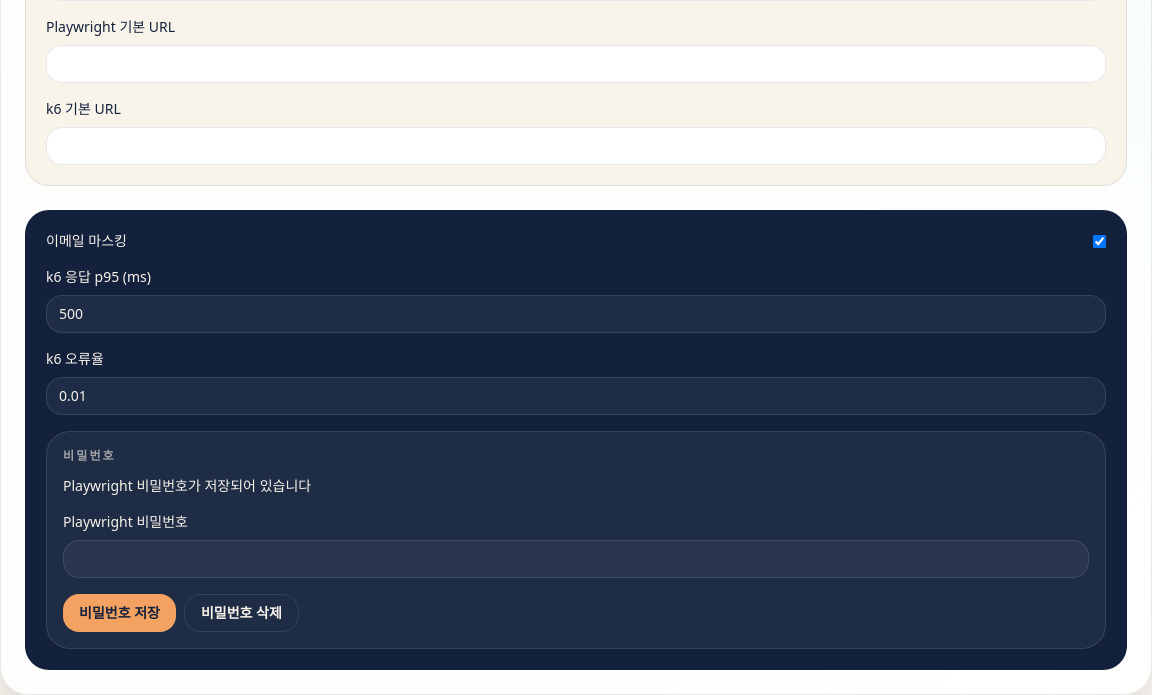
Test: SettingsPage › keeps the credential status unchanged when clearing the Playwright password fails
(page scrolled)
Expected: the text "Playwright 비밀번호가 저장되어 있습니다" is shown, [63,476,311,495]
What coordinates should you click on to do the following:
click the button "비밀번호 삭제"
I would click on:
 (241, 613)
Its box is [184,594,299,632].
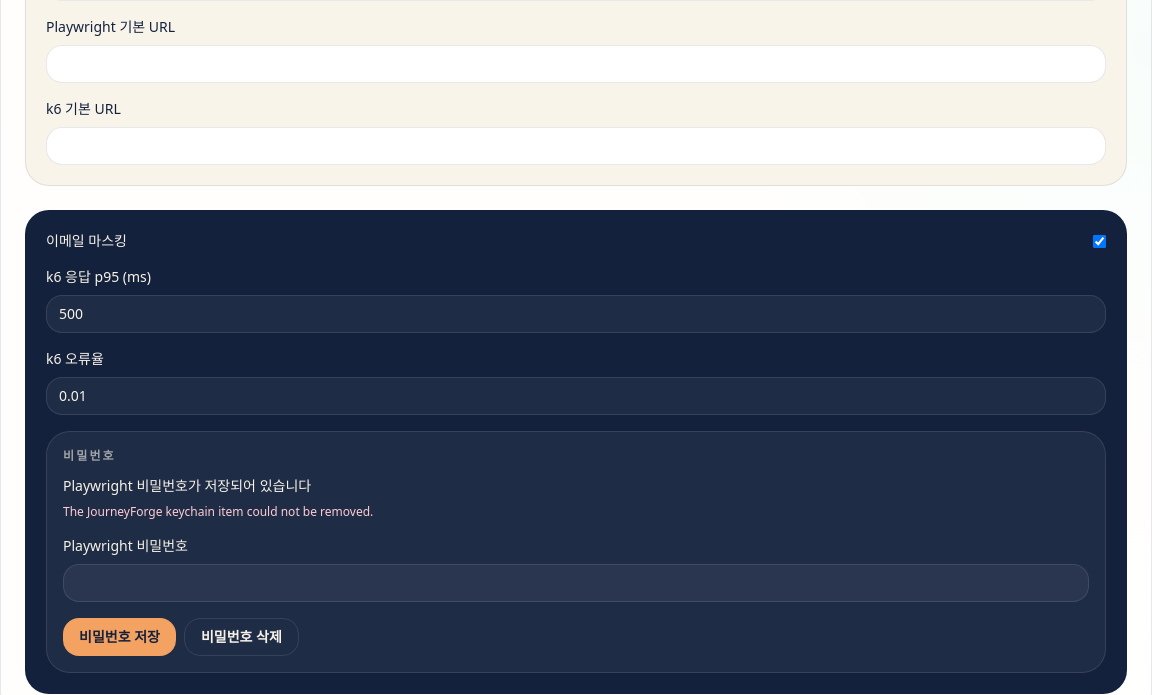
Expected: the text "Playwright 비밀번호가 저장되어 있습니다" is shown, [63,476,311,495]
Expected: the text "The JourneyForge keychain item could not be removed." is shown, [63,503,373,520]
